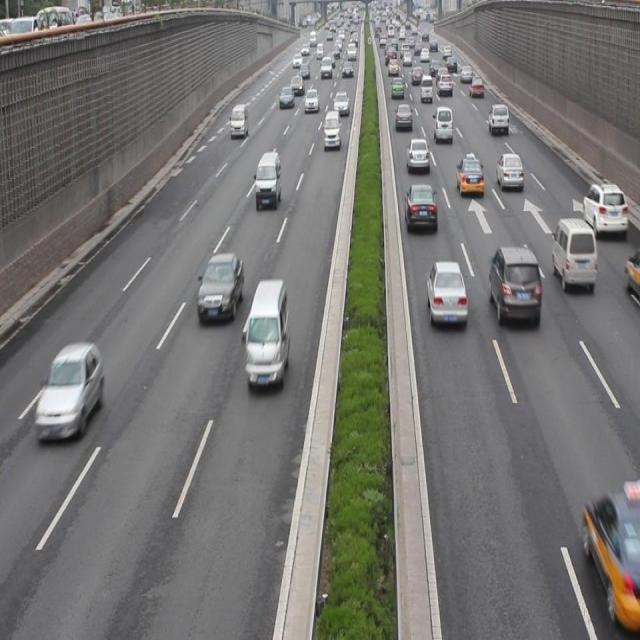car: (582, 487, 640, 608), (35, 342, 104, 443), (488, 245, 540, 328), (197, 254, 243, 321), (426, 263, 466, 327), (580, 184, 626, 236), (404, 183, 436, 231), (494, 151, 523, 192), (456, 154, 483, 198), (406, 135, 430, 174), (487, 104, 506, 131), (393, 103, 410, 129)
truck: (245, 277, 287, 389), (551, 216, 595, 290), (254, 152, 281, 206), (322, 111, 340, 151), (433, 104, 451, 140), (230, 105, 248, 138)
